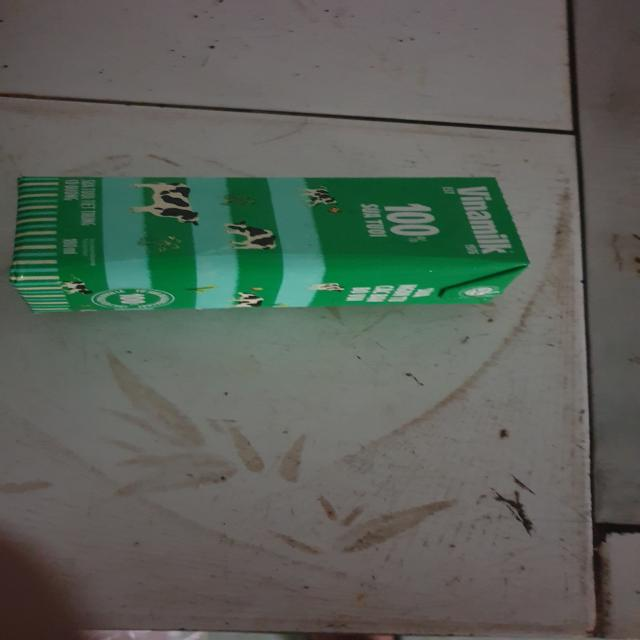Vina: (8, 173, 534, 316)
